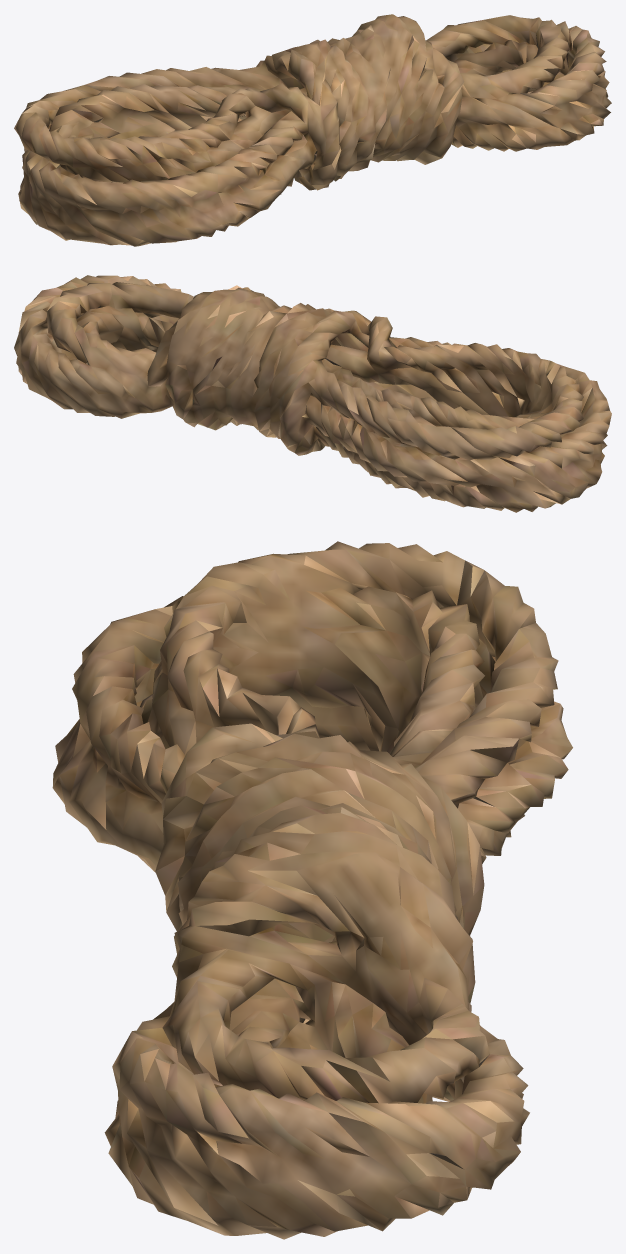
Rendered from RopeHank.glb.
3 views of the same model, one above another, from view 1: azimuth 30°, elevation 25°; view 2: azimuth 150°, elevation 25°; view 3: azimuth 270°, elevation 25° (orthographic). The views are drawn at different scales.
Visible parts, largest first — view 1: RopeHank; view 2: RopeHank; view 3: RopeHank.
Part boxes in pixels (x1,y1,x2,y2): RopeHank: (14, 14, 611, 246); RopeHank: (14, 275, 611, 512); RopeHank: (52, 541, 572, 1239).
Bounding box in the file's own units: 0.8407 × 0.195 × 0.3377.
1 material, 1 textured.
